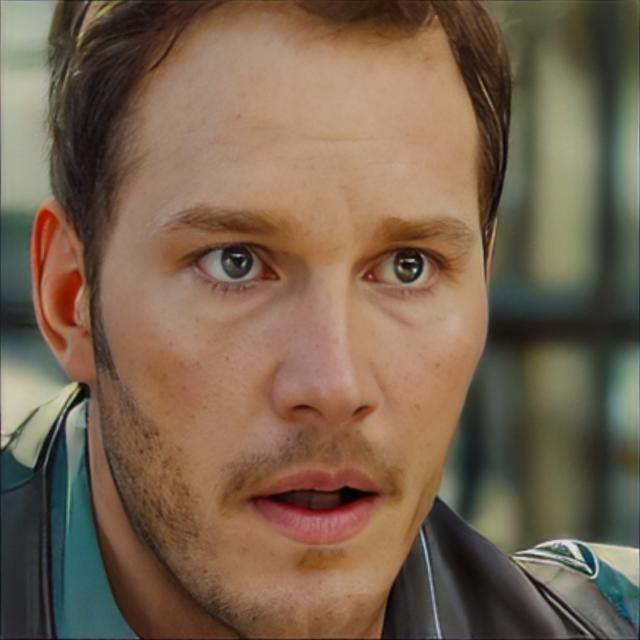surprise: (91, 1, 491, 640)
